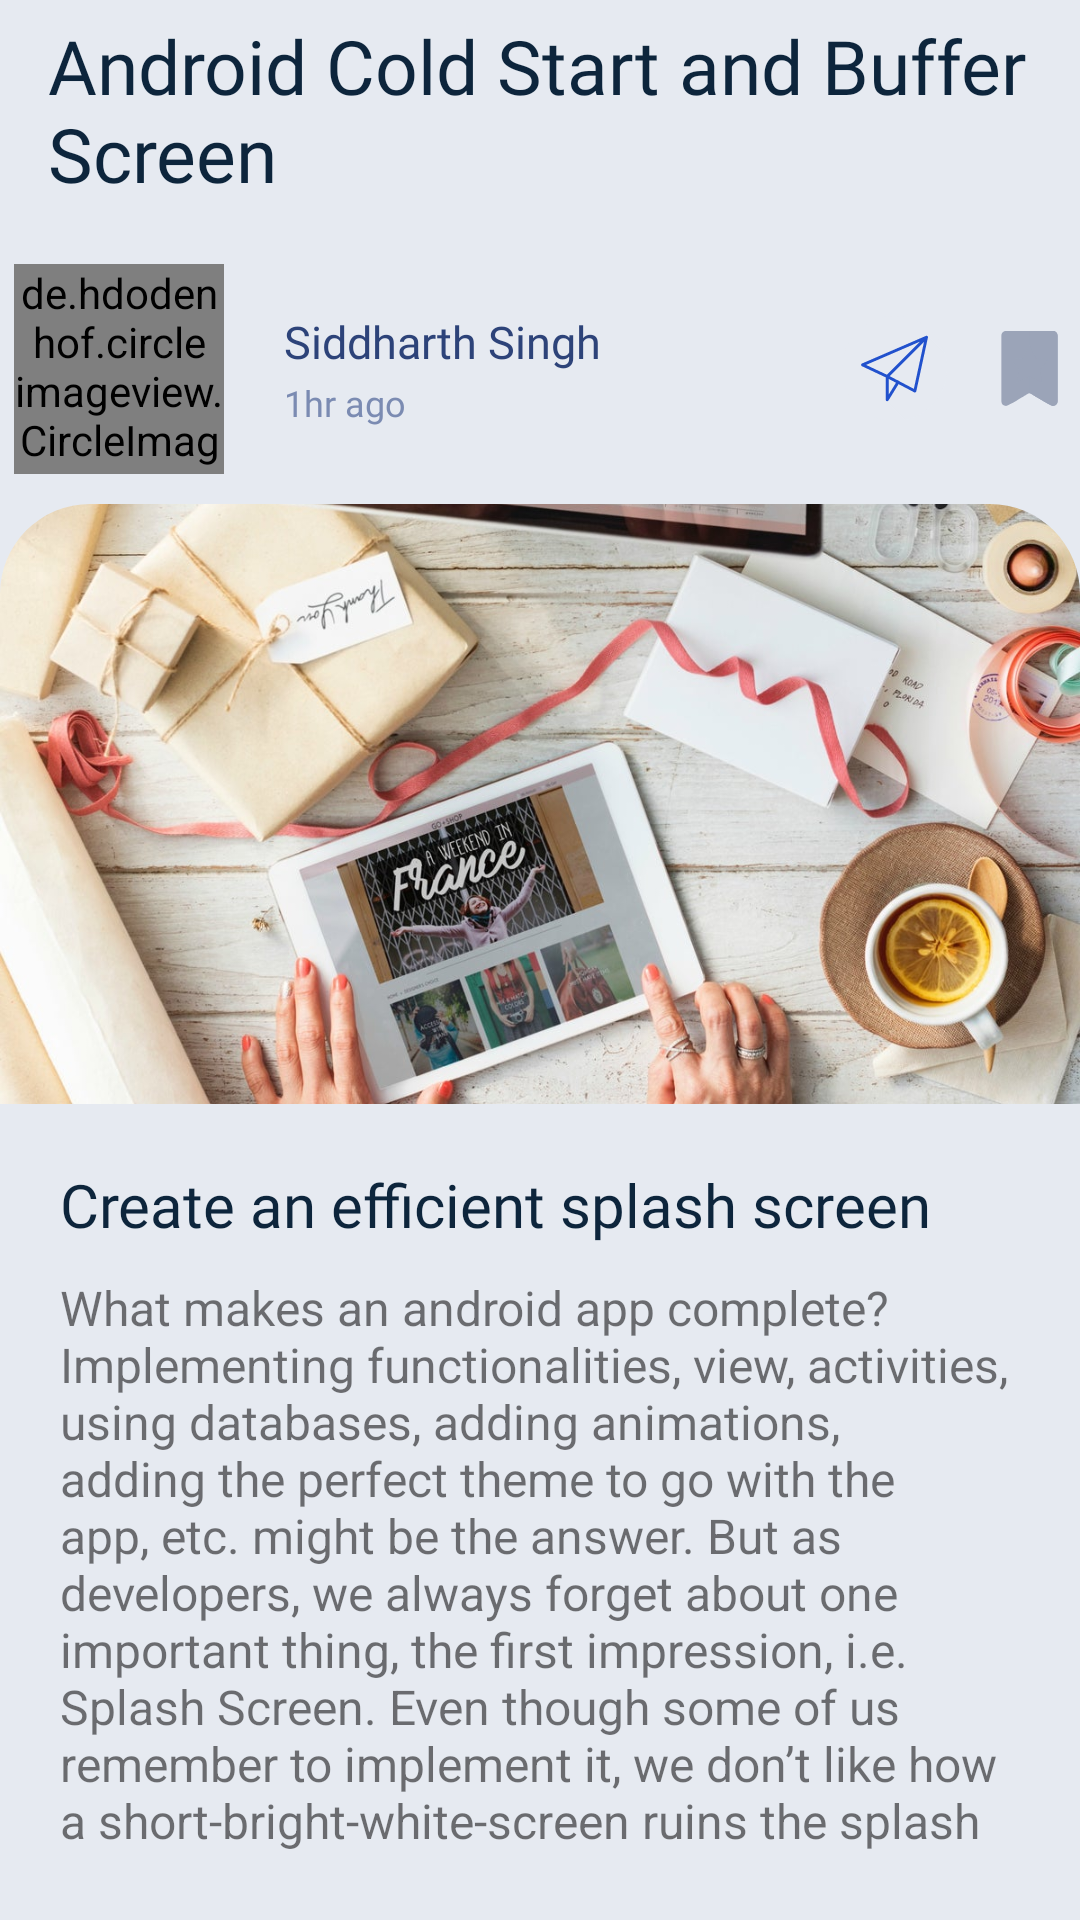

Named icons in this screenshot (1080 × 1920) and their centers, point (x, y):
bookmark state: point (1029, 368)
send: point (894, 368)
